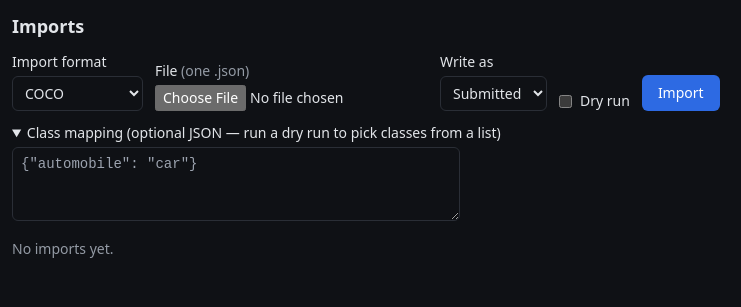
Test: ImportPanel › refuses to submit without a file
Click the button "Import" at [681, 93], box [642,75,720,111]
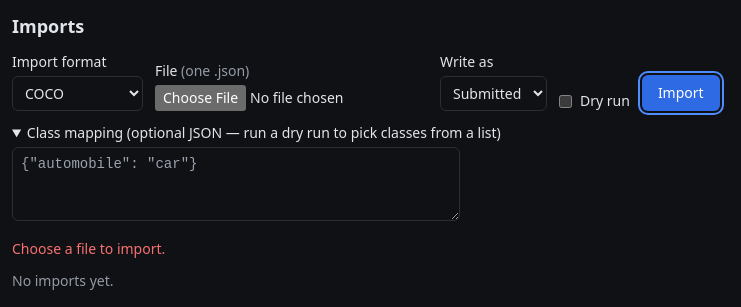
Check: the text "Choose a file to import." is shown, box [12,239,165,258]
